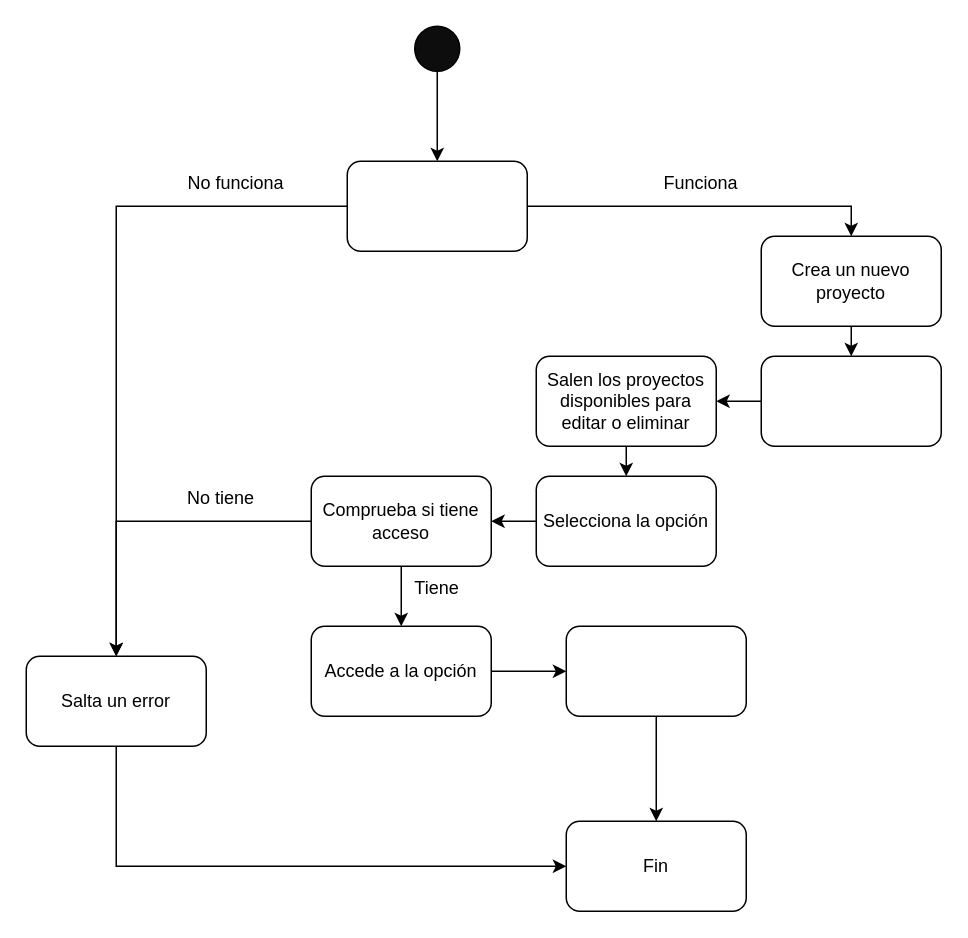
Image size: 968x938. Some labels were removed from this diagram. Here are the shapes that lost their labels. From the top down, the centre of each, then its label:
[436,205]: Inicia sesión
[850,400]: Accede al menu de proyectos
[655,670]: Guarda cambios
